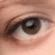eye: (22, 19, 40, 34)
